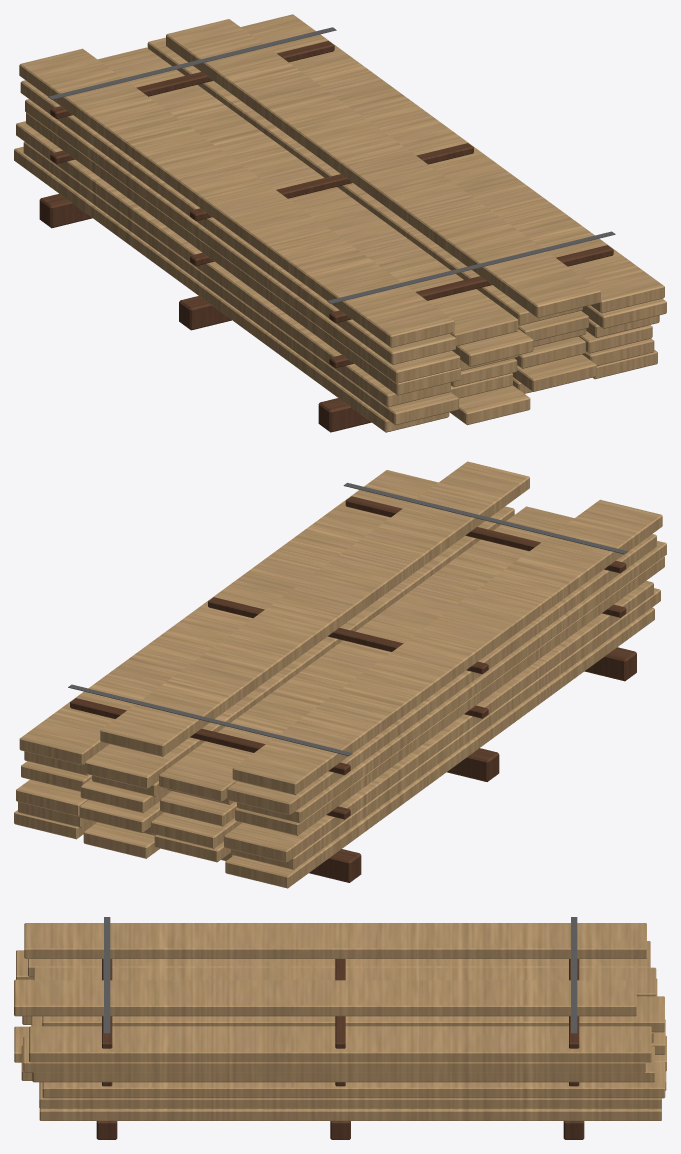
The model's file is pilha_tabuas.glb.
3 views of the same model, one above another, from view 1: azimuth 30°, elevation 25°; view 2: azimuth 150°, elevation 25°; view 3: azimuth 270°, elevation 25° (orthographic). The views are drawn at different scales.
Parts seen in each view (by area): view 1: pilha_tabuas_madeira_crua, pilha_tabuas_madeira_escura, pilha_tabuas_fita_preta; view 2: pilha_tabuas_madeira_crua, pilha_tabuas_madeira_escura, pilha_tabuas_fita_preta; view 3: pilha_tabuas_madeira_crua, pilha_tabuas_madeira_escura, pilha_tabuas_fita_preta.
Part boxes in pixels (x1=…): pilha_tabuas_madeira_crua: x1=14, y1=14, x2=666, y2=432; pilha_tabuas_madeira_escura: x1=39, y1=41, x2=613, y2=432; pilha_tabuas_fita_preta: x1=48, y1=27, x2=615, y2=303; pilha_tabuas_madeira_crua: x1=14, y1=461, x2=666, y2=888; pilha_tabuas_madeira_escura: x1=70, y1=496, x2=636, y2=882; pilha_tabuas_fita_preta: x1=68, y1=482, x2=628, y2=755; pilha_tabuas_madeira_crua: x1=14, y1=923, x2=666, y2=1120; pilha_tabuas_madeira_escura: x1=96, y1=959, x2=584, y2=1139; pilha_tabuas_fita_preta: x1=104, y1=917, x2=577, y2=1033.
Size of the model in its own units: 1.1 by 0.447 by 2.52.
Materials: 3 (2 with a texture image).
